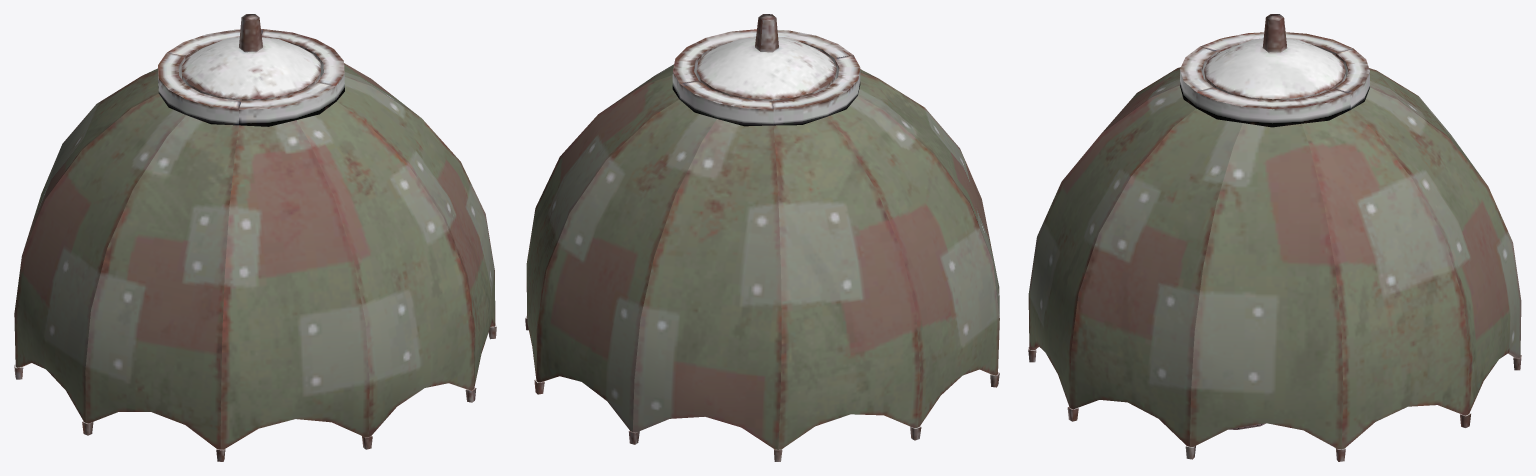
3 renders of one model, left to right at view 1: azimuth 30°, elevation 25°; view 2: azimuth 150°, elevation 25°; view 3: azimuth 270°, elevation 25°, orthographic.
Parts seen in each view (by area): view 1: Cover_low__M_Umbrella; view 2: Cover_low__M_Umbrella; view 3: Cover_low__M_Umbrella.
Part boxes in pixels (<box>): Cover_low__M_Umbrella: <box>14,14,496,461</box>; Cover_low__M_Umbrella: <box>525,14,999,461</box>; Cover_low__M_Umbrella: <box>1028,14,1521,461</box>.
Bounding box in the file's own units: 2.91 × 2.49 × 3.
2 materials, 2 textured.
